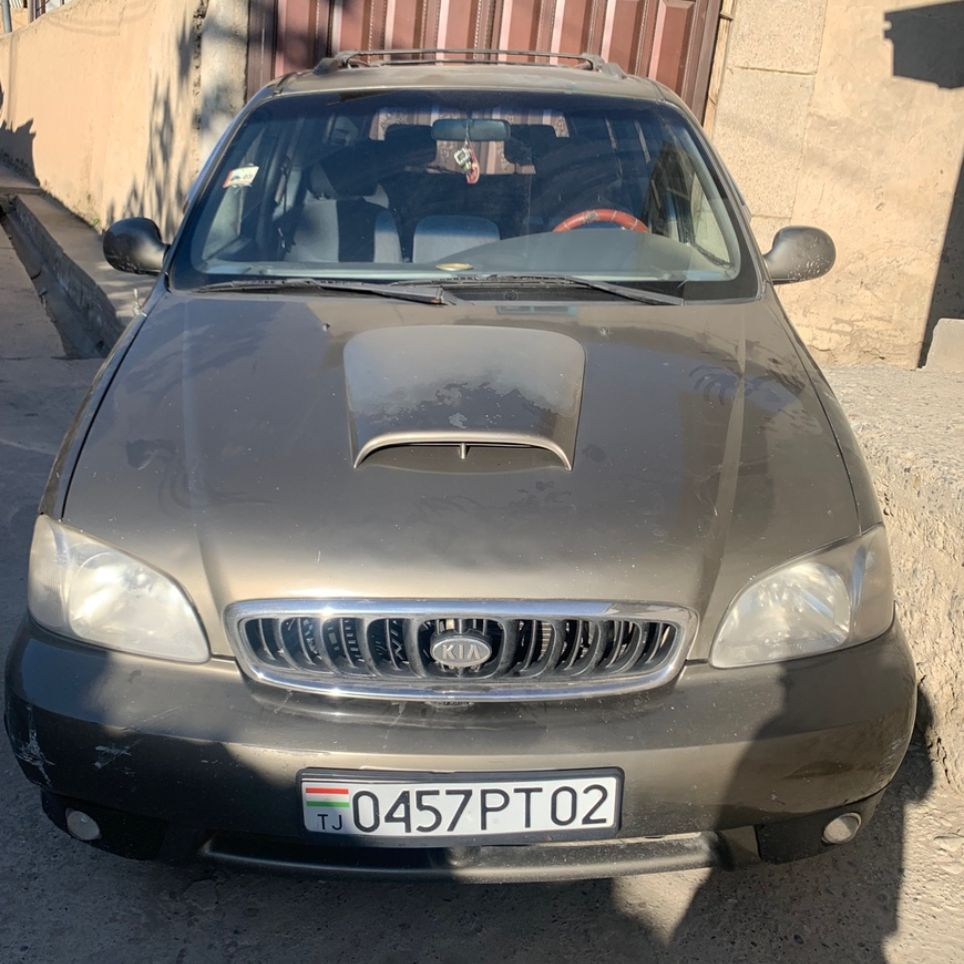license plate: (301, 774, 623, 836)
truck: (5, 40, 916, 905)
